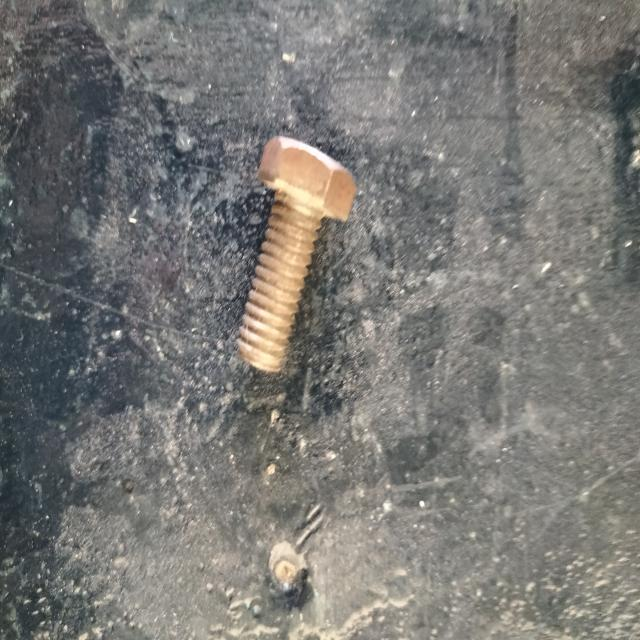bolt: (239, 136, 355, 371)
